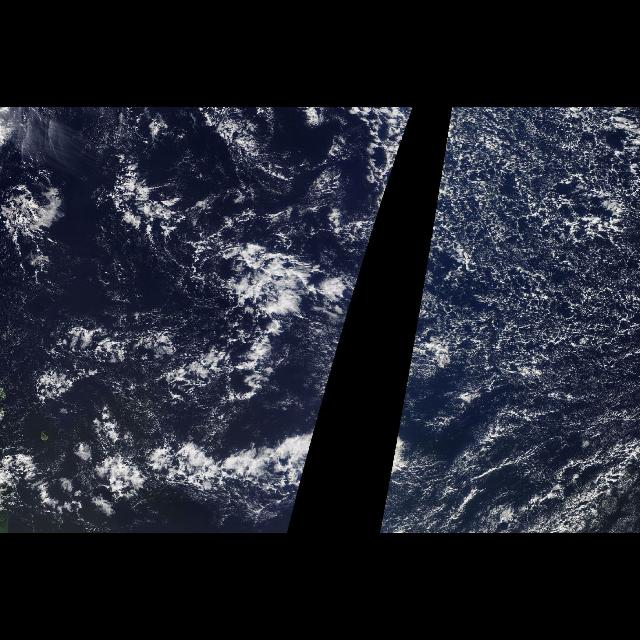Fish: (66, 163, 332, 521), (380, 419, 406, 521)
Gravel: (446, 108, 636, 438)
Sugar: (197, 114, 399, 236), (436, 370, 638, 484)
